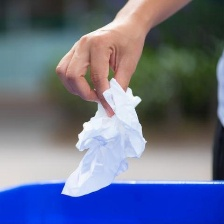plastic_box: (0, 174, 224, 224)
tissue: (55, 74, 152, 201)
